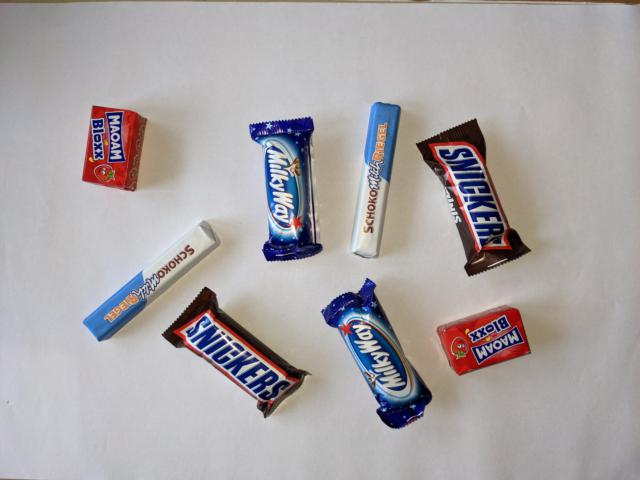MAOAM: (432, 302, 534, 379), (77, 104, 150, 195)
MilkyWay: (317, 274, 435, 431), (246, 113, 327, 266)
Schokoriegel: (78, 215, 226, 347), (345, 98, 406, 264)
Snickers: (159, 284, 314, 422), (413, 114, 535, 279)
